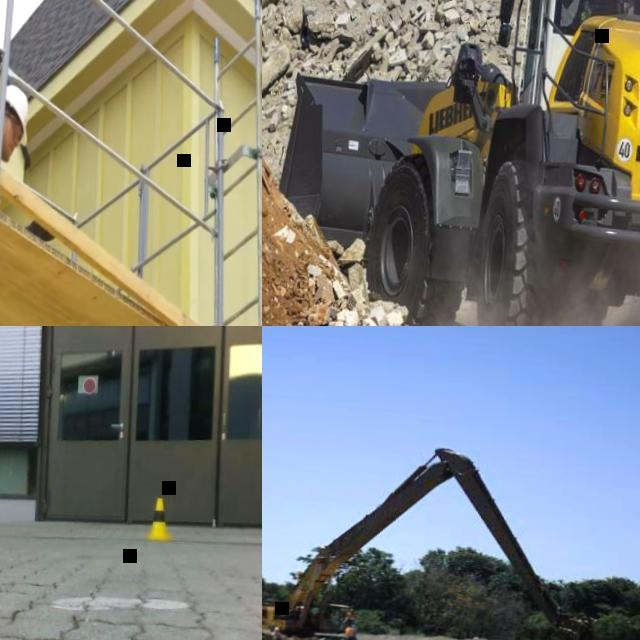Hardhat: (0, 82, 31, 145), (351, 608, 356, 611), (352, 624, 358, 626)
NO-Mask: (3, 129, 16, 163)
Person: (0, 78, 30, 199), (562, 0, 625, 36), (345, 607, 358, 627), (345, 623, 360, 640)
Safety Cone: (145, 497, 176, 540)
Safety Vest: (581, 0, 623, 25), (347, 627, 357, 635), (348, 611, 357, 619)
machinery: (268, 0, 640, 326), (262, 434, 612, 640)
